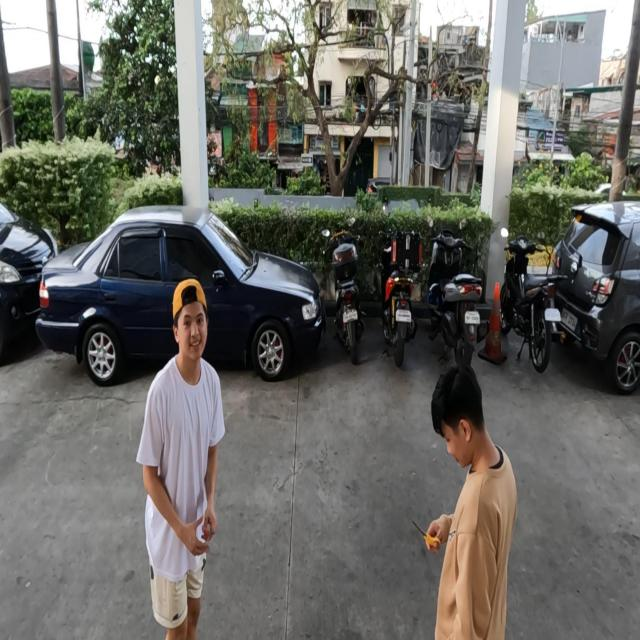scissor: (412, 519, 441, 555)
